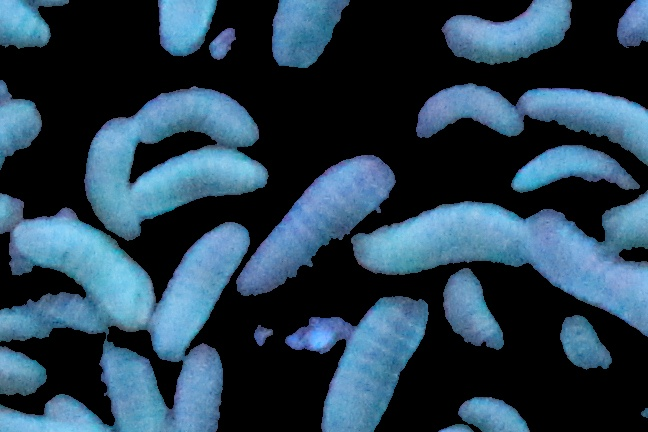larvae: (235, 155, 396, 294), (528, 207, 648, 338), (9, 218, 151, 328), (321, 296, 431, 432), (352, 201, 529, 276), (153, 222, 250, 358), (520, 80, 648, 161), (131, 144, 267, 218), (440, 1, 572, 65), (131, 87, 260, 151), (87, 114, 147, 247), (101, 344, 175, 432), (512, 143, 639, 194), (415, 81, 524, 138), (440, 265, 509, 354), (263, 1, 351, 68), (557, 314, 622, 402), (172, 342, 223, 432), (13, 291, 106, 335), (154, 1, 219, 58), (1, 98, 43, 180), (596, 191, 648, 255), (454, 392, 537, 432), (43, 393, 110, 432), (1, 347, 48, 402), (1, 1, 54, 49)
